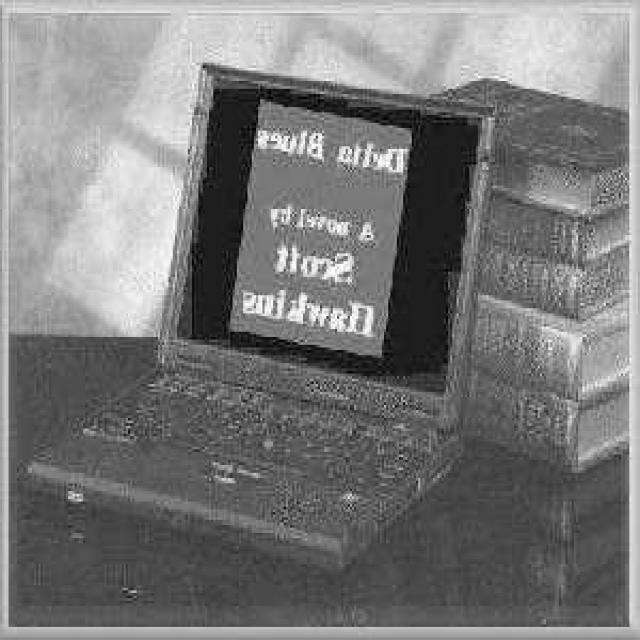laptop: (32, 52, 490, 546)
